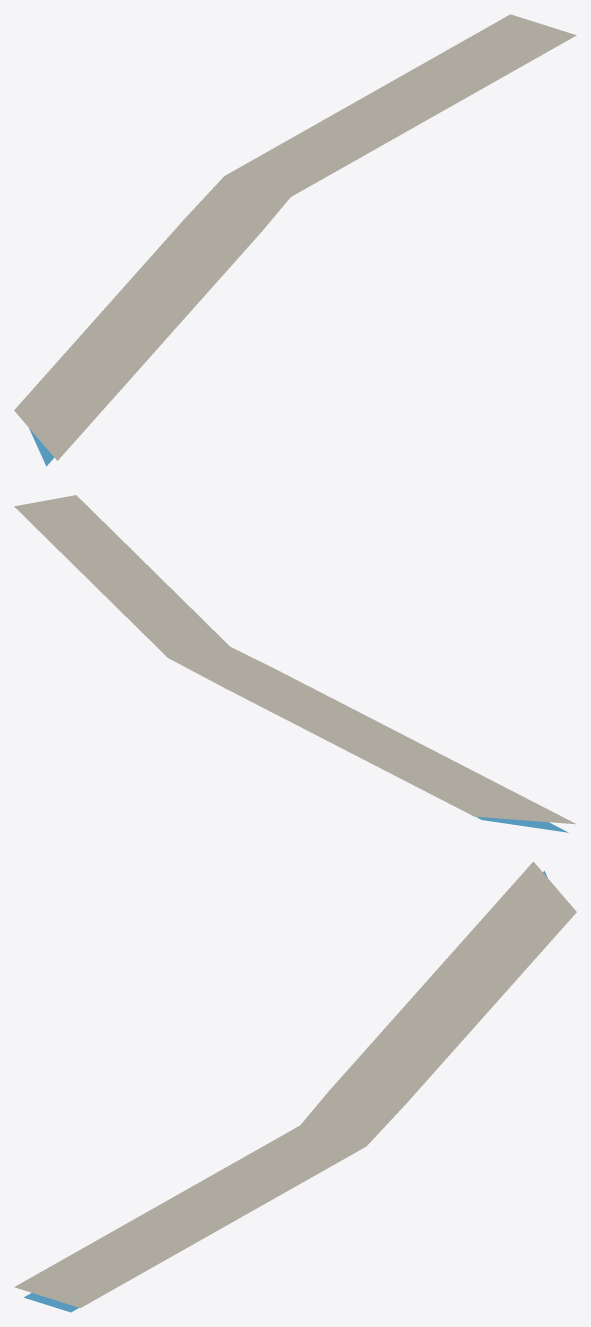
The picture shows the model from 3 angles, top to bottom: view 1: azimuth 90°, elevation 25°; view 2: azimuth 150°, elevation 25°; view 3: azimuth 270°, elevation 25°; orthographic projection. The views are drawn at different scales.
Visible parts, largest first — view 1: estructura_terreno; view 2: estructura_terreno, estructura_agua; view 3: estructura_terreno.
Boxes of the visible parts, left/top/right/bottom form: estructura_terreno: left=14, top=14, right=576, bottom=460; estructura_terreno: left=14, top=495, right=576, bottom=824; estructura_agua: left=476, top=816, right=568, bottom=832; estructura_terreno: left=14, top=861, right=576, bottom=1307.
Bounding box in the file's own units: 53.49 × 0.41 × 28.48.
